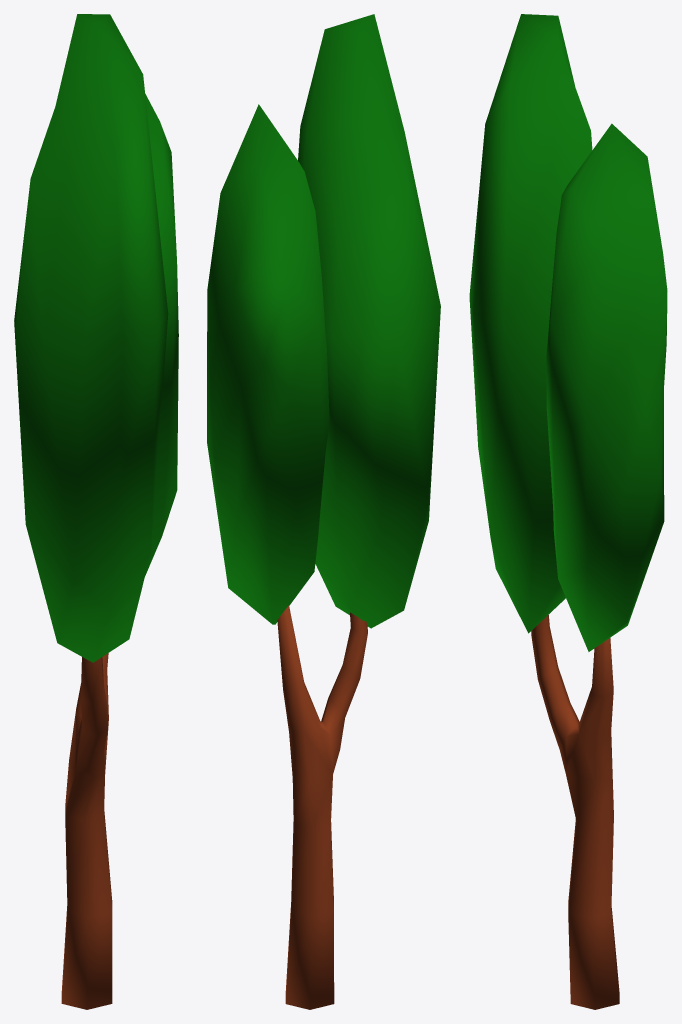
File: TraHojbush1.FBX
3 renders of one model, left to right at view 1: azimuth 30°, elevation 25°; view 2: azimuth 150°, elevation 25°; view 3: azimuth 270°, elevation 25°, orthographic. The views are drawn at different scales.
Visible parts, largest first — view 1: Tratop:GeoSphere027, Trabund:Cylinder009; view 2: Tratop:GeoSphere027, Trabund:Cylinder009; view 3: Tratop:GeoSphere027, Trabund:Cylinder009.
Boxes of the visible parts, x1=… form: Tratop:GeoSphere027: x1=14, y1=14, x2=178, y2=662; Trabund:Cylinder009: x1=61, y1=653, x2=112, y2=1009; Tratop:GeoSphere027: x1=207, y1=14, x2=440, y2=628; Trabund:Cylinder009: x1=277, y1=605, x2=367, y2=1009; Tratop:GeoSphere027: x1=469, y1=14, x2=667, y2=651; Trabund:Cylinder009: x1=531, y1=615, x2=619, y2=1009.
Bounding box in the file's own units: 38.54 × 194 × 35.88.
